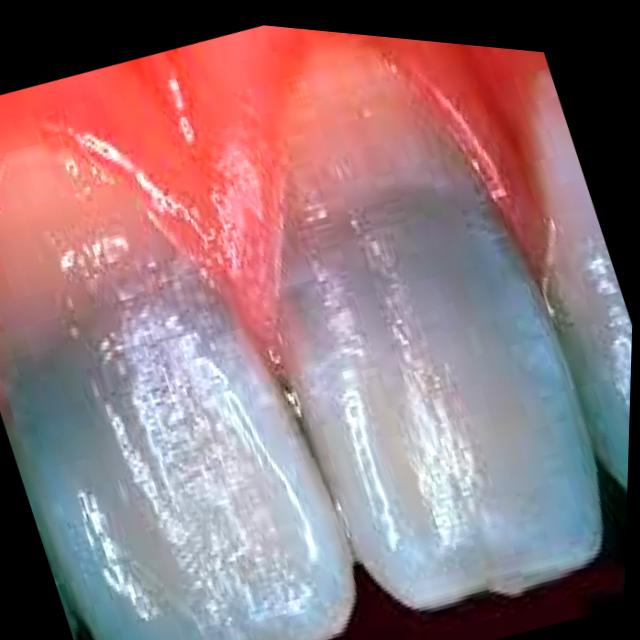tooth-discoloration: (280, 51, 603, 607), (0, 147, 356, 640), (535, 72, 632, 486)
